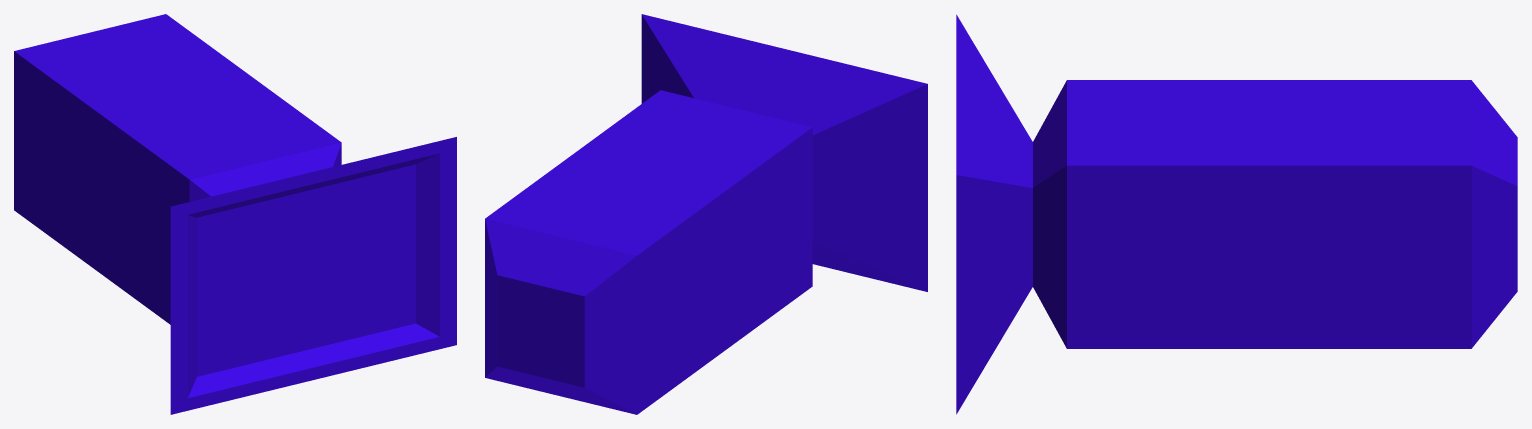
The model's file is sm_UTIL_camera.glb.
The picture shows the model from 3 angles, left to right: view 1: azimuth 30°, elevation 25°; view 2: azimuth 150°, elevation 25°; view 3: azimuth 270°, elevation 25°; orthographic projection. The views are drawn at different scales.
Parts seen in each view (by area): view 1: Cube; view 2: Cube; view 3: Cube.
Part boxes in pixels (<box>): Cube: <box>14,14,456,414</box>; Cube: <box>485,14,927,414</box>; Cube: <box>956,14,1517,414</box>.
Size of the model in its own units: 0.7533 by 0.5235 by 1.11.
